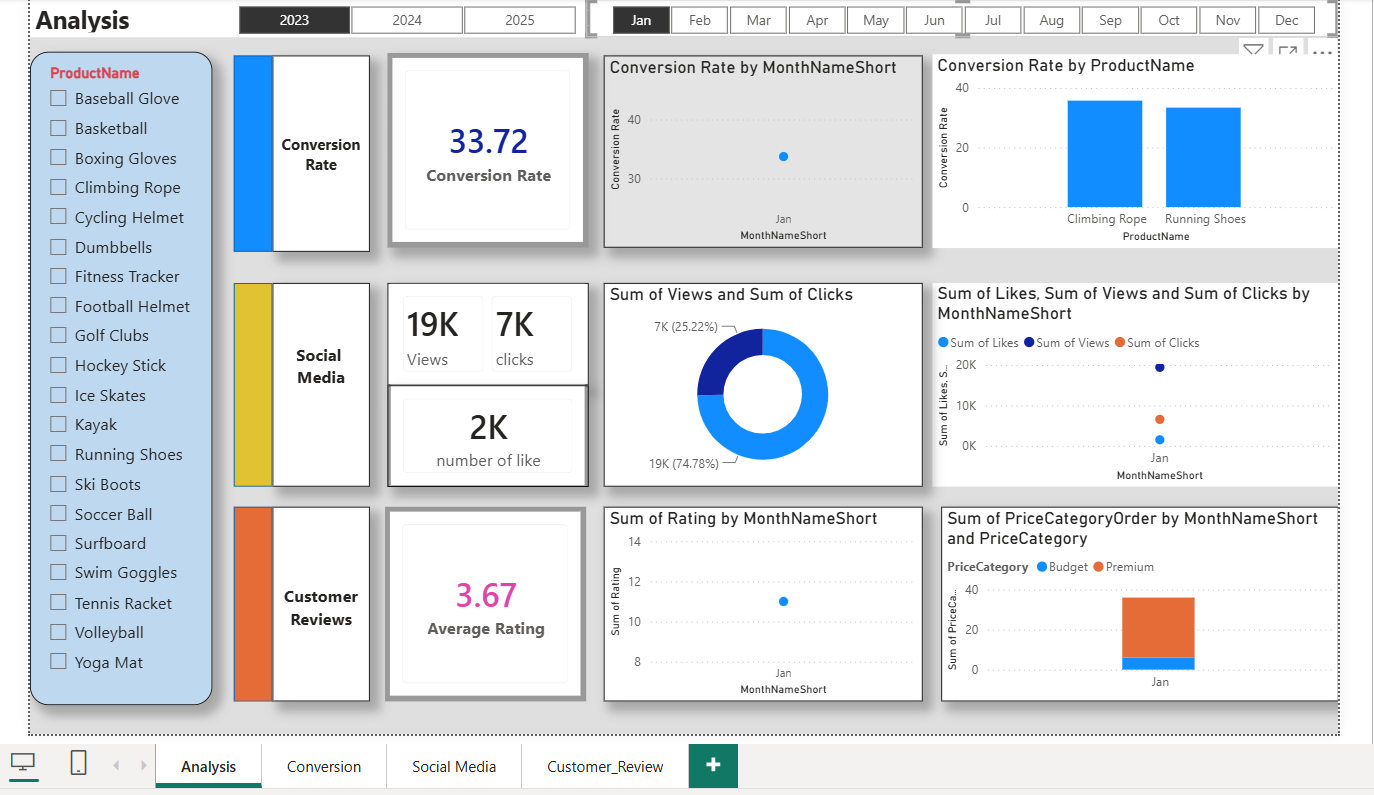

This screenshot's page, from the dashboard's own definition file:
{"tool":"powerbi","page":{"name":"Analysis","canvas":[1280,720],"ordinal":0},"visuals":[{"type":"textbox","box":[0,0,1280.3,38.4],"z":0},{"type":"slicer","fields":{"Values":["products.ProductName"]},"box":[0,52.6,178.5,639.5],"z":1000},{"type":"textbox","box":[237.2,56.3,95.4,192],"z":2000},{"type":"textbox","box":[237.2,497.7,95.4,190.8],"z":3000},{"type":"textbox","box":[237.2,278.8,95.4,199.3],"z":4000},{"type":"cardVisual","fields":{"Data":["Calculations.Conversion Rate"]},"box":[350,54,196.9,190.7],"z":5000},{"type":"cardVisual","fields":{"Data":["Calculations.Views","Calculations.clicks"]},"box":[349.2,278.6,196.9,100.3],"z":6000},{"type":"cardVisual","fields":{"Data":["Calculations.Average Rating"]},"box":[346.7,497.7,196.9,190.7],"z":7000},{"type":"cardVisual","fields":{"Data":["Calculations.number of like"]},"box":[349.7,379.1,196.9,99],"z":8000},{"type":"slicer","fields":{"Values":["Calendar.Year"]},"box":[178.5,1.2,378.9,37.1],"z":9000},{"type":"slicer","fields":{"Values":["Calendar.MonthNameShort"]},"box":[543.5,1.2,736.7,37.1],"z":10000},{"type":"lineChart","fields":{"Y":["Calculations.Conversion Rate"],"Category":["Calendar.MonthNameShort"]},"box":[561.3,56.3,311.8,188.3],"z":11000},{"type":"columnChart","fields":{"Category":["products.ProductName"],"Y":["Calculations.Conversion Rate"]},"box":[882.9,55,397.4,189.5],"z":12000},{"type":"lineChart","fields":{"Y":["Sum(engagement_data.Likes)","Sum(engagement_data.Views)","Sum(engagement_data.Clicks)"],"Category":["Calendar.MonthNameShort"]},"box":[882.9,278.8,397.4,199.3],"z":13000},{"type":"donutChart","fields":{"Y":["Sum(engagement_data.Views)","Sum(engagement_data.Clicks)"]},"box":[561.3,278.8,311.8,199.3],"z":14000},{"type":"lineChart","fields":{"Y":["Sum(customer_reviews_sentiment (1).Rating)"],"Category":["Calendar.MonthNameShort"]},"box":[561.3,497.7,311.8,190.8],"z":15000},{"type":"columnChart","fields":{"Category":["Calendar.MonthNameShort"],"Y":["Sum(products.PriceCategoryOrder)"],"Series":["products.PriceCategory"]},"box":[891.4,497.7,388.9,190.8],"z":16000},{"type":"shape","box":[199.3,56.3,37.9,192],"z":16001},{"type":"shape","box":[199.3,278.8,37.9,199.3],"z":16002},{"type":"shape","box":[199.3,497.7,37.9,190.8],"z":16003}]}

Visuals, with their boxes in screenshot pixels (x1, y1, x2, y2):
textbox: [25, 0, 1332, 36]
slicer - products.ProductName: [25, 50, 207, 703]
textbox: [267, 54, 365, 250]
textbox: [267, 505, 365, 699]
textbox: [267, 281, 365, 485]
cardVisual - Calculations.Conversion Rate: [382, 52, 583, 246]
cardVisual - Calculations.Views x Calculations.clicks: [382, 281, 583, 383]
cardVisual - Calculations.Average Rating: [379, 505, 580, 699]
cardVisual - Calculations.number of like: [382, 384, 583, 485]
slicer - Calendar.Year: [207, 0, 594, 36]
slicer - Calendar.MonthNameShort: [580, 0, 1332, 36]
lineChart - Calculations.Conversion Rate x Calendar.MonthNameShort: [598, 54, 917, 246]
columnChart - products.ProductName x Calculations.Conversion Rate: [927, 53, 1332, 246]
lineChart - Sum(engagement_data.Likes) x Sum(engagement_data.Views): [927, 281, 1332, 485]
donutChart - Sum(engagement_data.Views) x Sum(engagement_data.Clicks): [598, 281, 917, 485]
lineChart - Sum(customer_reviews_sentiment (1).Rating) x Calendar.MonthNameShort: [598, 505, 917, 699]
columnChart - Calendar.MonthNameShort x Sum(products.PriceCategoryOrder): [935, 505, 1332, 699]
shape: [229, 54, 267, 250]
shape: [229, 281, 267, 485]
shape: [229, 505, 267, 699]
